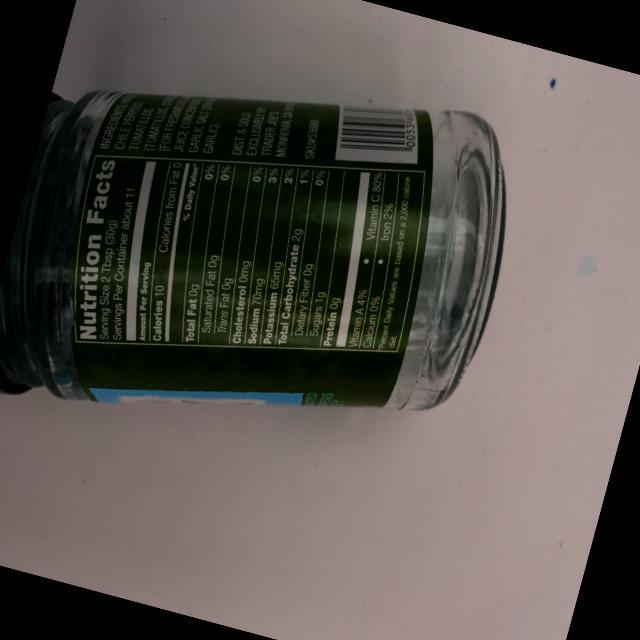glass: (0, 0, 553, 532)
